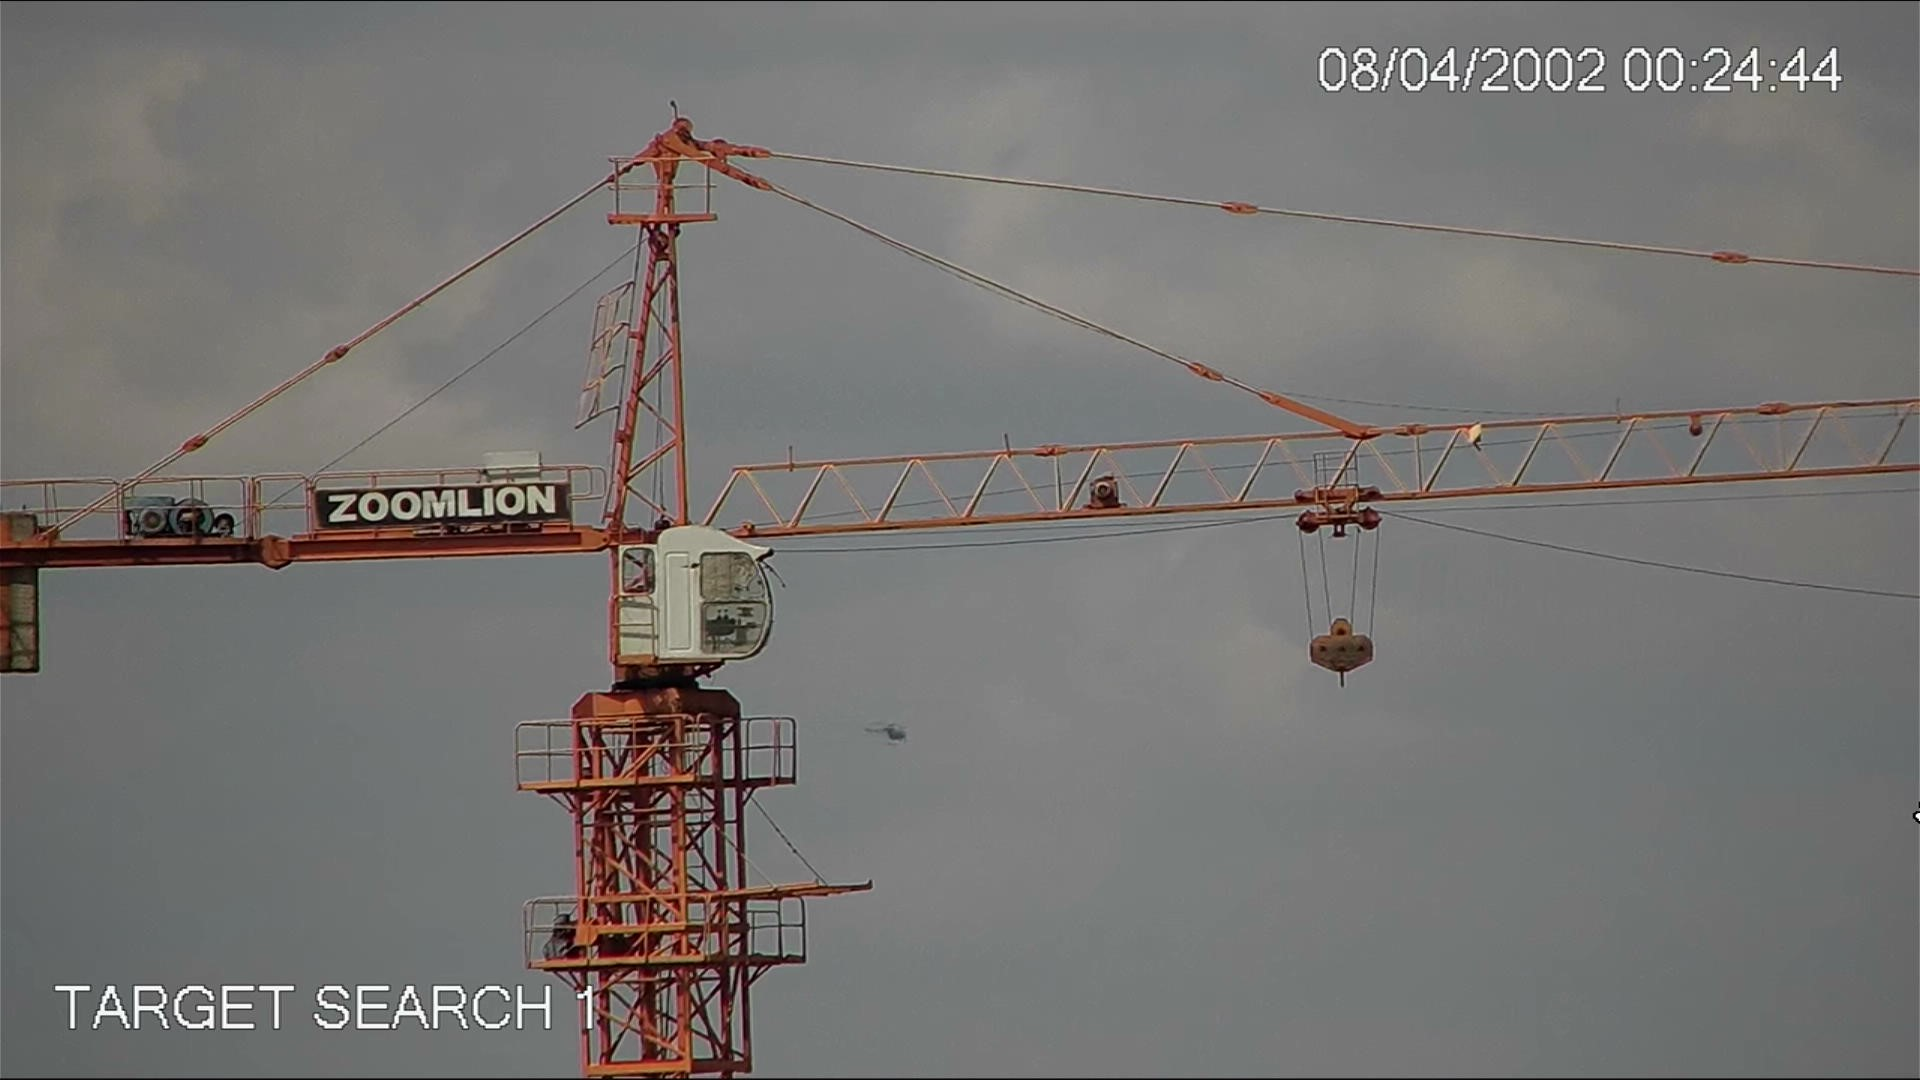SU_30: (858, 713, 913, 746)
